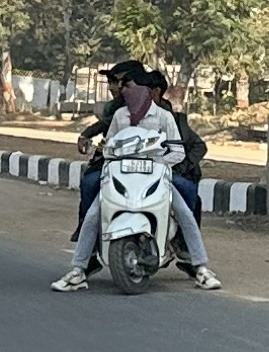BikeWithRider: (39, 52, 229, 295)
NoHelmet: (111, 58, 150, 95), (97, 66, 134, 99), (123, 71, 155, 108), (145, 71, 172, 102)
